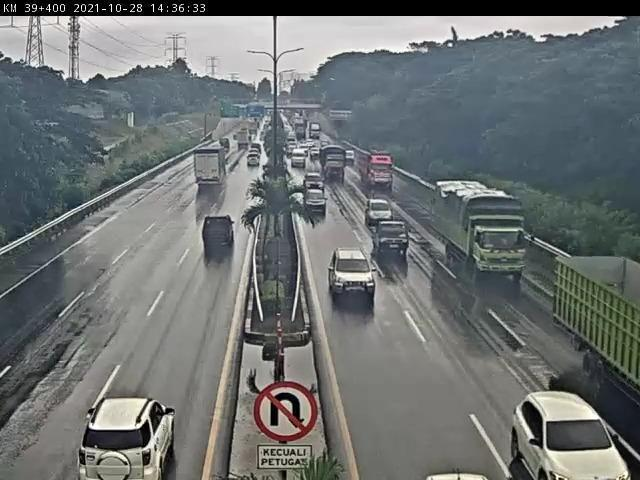car: (507, 388, 639, 480), (82, 396, 184, 471), (327, 253, 380, 302), (200, 212, 244, 260), (378, 222, 409, 256), (367, 196, 400, 220), (307, 190, 328, 213), (291, 154, 312, 169), (306, 172, 322, 190), (247, 153, 264, 166), (347, 149, 356, 170)
truck: (553, 245, 640, 377), (436, 177, 538, 274), (200, 142, 231, 204), (361, 156, 398, 183), (324, 150, 346, 180)
